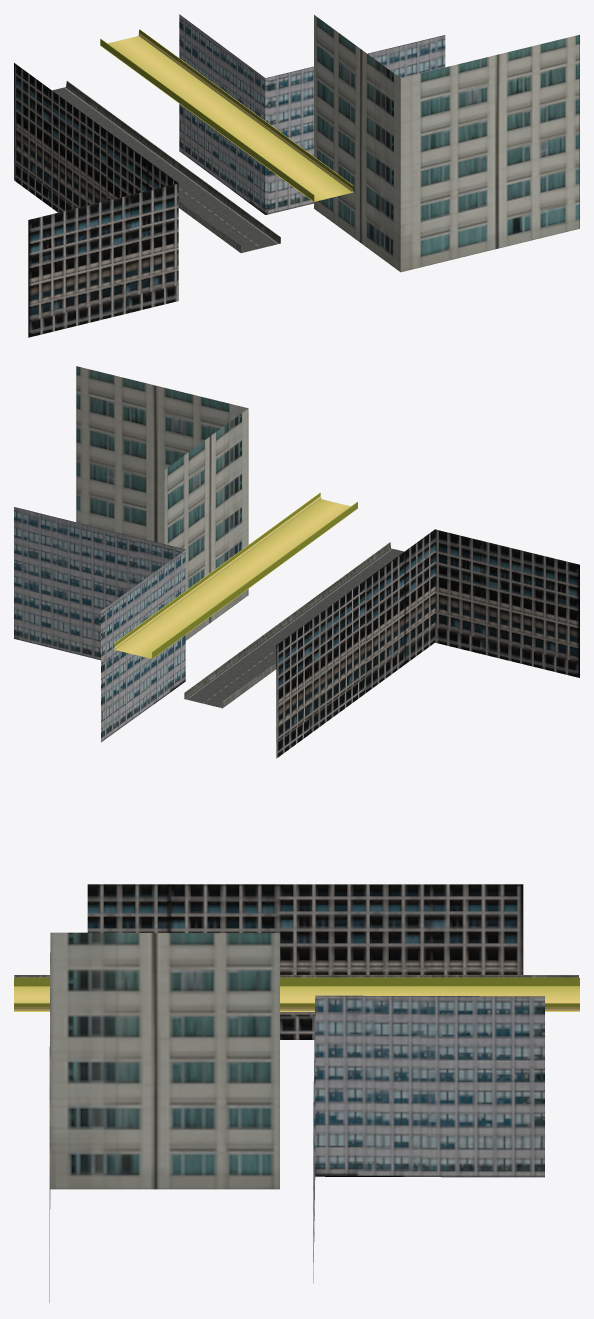
Rendered from Enviroment_assets_1.6.fbx.
The picture shows the model from 3 angles, top to bottom: view 1: azimuth 30°, elevation 25°; view 2: azimuth 150°, elevation 25°; view 3: azimuth 270°, elevation 25°; orthographic projection. The views are drawn at different scales.
Parts seen in each view (by area): view 1: Cube.017, Plane.005, Road_plane, Plane.006, Plane.001, Plane.002; view 2: Cube.017, Plane.005, Road_plane, Plane.006, Plane.001; view 3: Cube.017, Plane.006, Plane.005, Plane.002.
Boxes of the visible parts, x1,y1,x2,y2 form: Cube.017: (14, 14, 579, 337); Plane.005: (100, 36, 353, 201); Road_plane: (52, 87, 279, 252); Plane.006: (100, 29, 353, 201); Plane.001: (66, 81, 280, 243); Plane.002: (178, 201, 242, 252); Cube.017: (14, 366, 579, 758); Plane.005: (114, 499, 358, 658); Road_plane: (184, 548, 403, 708); Plane.006: (114, 492, 357, 658); Plane.001: (184, 542, 390, 698); Cube.017: (49, 884, 544, 1302); Plane.006: (14, 977, 579, 1011); Plane.005: (14, 987, 579, 1011); Plane.002: (14, 975, 578, 977).
Bounding box in the file's own units: 43475 × 15592 × 30000.
